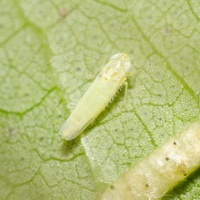insect: (59, 53, 130, 139)
